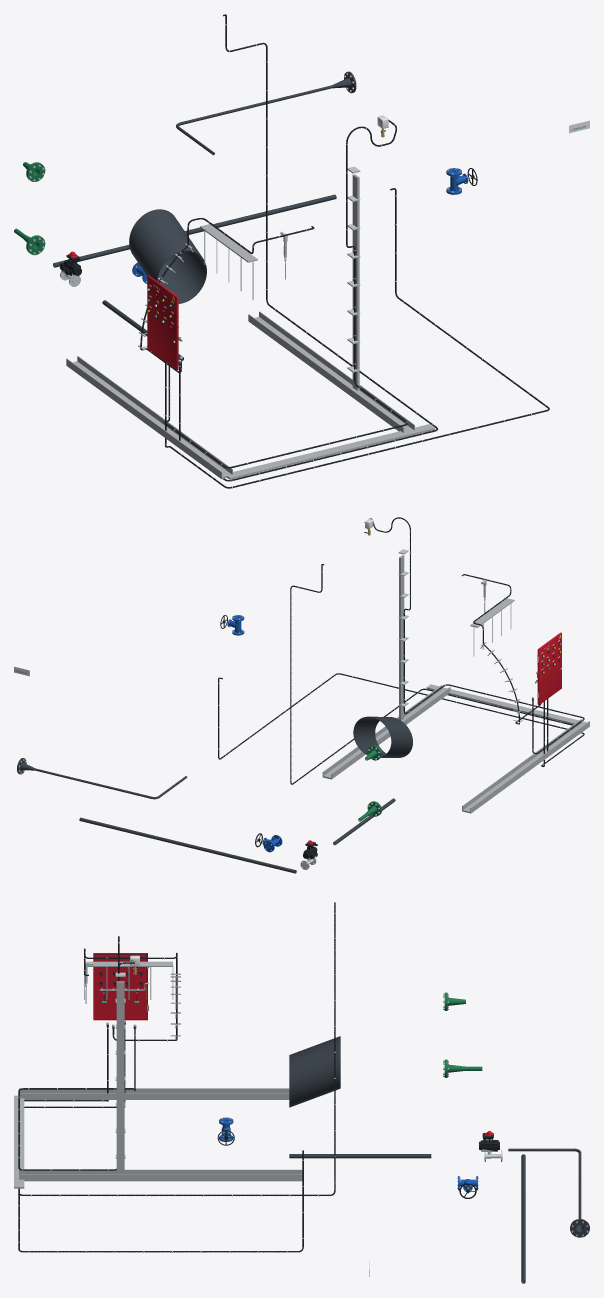
3 renders of one model, top to bottom at view 1: azimuth 30°, elevation 25°; view 2: azimuth 150°, elevation 25°; view 3: azimuth 270°, elevation 25°, orthographic. The views are drawn at different scales.
Visible parts, largest first — view 1: cables / zinc, 500 mm offset flue, cabinet_door / cabinet_door_5.npz, mod_eco_drive_cable / black, wiring_pump_2 / black, wiring_pressure_switch_3 / black, bottom_discharge / dark, tds_to_fv / dark, cables / steel, eco_inlet_adapter / green, wiring_low_level_2 / black; view 2: cables / zinc, 500 mm offset flue, cabinet_door / cabinet_door_5.npz, mod_eco_drive_cable / black, wiring_pump_2 / black, bottom_discharge / dark, wiring_pressure_switch_3 / black, tds_to_fv / dark, cables / steel; view 3: cables / zinc, cabinet_door / cabinet_door_5.npz, 500 mm offset flue, mod_eco_drive_cable / black, wiring_pump_2 / black, tds_to_fv / dark, wiring_pressure_switch_3 / black, cables / steel, bottom_piping / dark, bottom_discharge / dark, wiring_low_level_2 / black.
Boxes of the visible parts, left/top/right/bottom form: cables / zinc: left=66, top=174, right=434, bottom=479; 500 mm offset flue: left=129, top=209, right=206, bottom=303; cabinet_door / cabinet_door_5.npz: left=147, top=275, right=178, bottom=369; mod_eco_drive_cable / black: left=179, top=14, right=437, bottom=481; wiring_pump_2 / black: left=165, top=188, right=549, bottom=488; wiring_pressure_switch_3 / black: left=164, top=120, right=407, bottom=468; bottom_discharge / dark: left=53, top=194, right=336, bottom=267; tds_to_fv / dark: left=176, top=71, right=356, bottom=155; cables / steel: left=138, top=166, right=360, bottom=372; eco_inlet_adapter / green: left=14, top=162, right=45, bottom=255; wiring_low_level_2 / black: left=140, top=218, right=314, bottom=372; cables / zinc: left=322, top=555, right=589, bottom=813; 500 mm offset flue: left=353, top=716, right=412, bottom=757; cabinet_door / cabinet_door_5.npz: left=537, top=632, right=562, bottom=704; mod_eco_drive_cable / black: left=290, top=564, right=572, bottom=784; wiring_pump_2 / black: left=218, top=673, right=584, bottom=766; bottom_discharge / dark: left=79, top=817, right=296, bottom=873; wiring_pressure_switch_3 / black: left=364, top=517, right=584, bottom=754; tds_to_fv / dark: left=17, top=758, right=187, bottom=799; cables / steel: left=398, top=549, right=522, bottom=723; cables / zinc: left=14, top=961, right=302, bottom=1188; cabinet_door / cabinet_door_5.npz: left=93, top=953, right=148, bottom=1020; 500 mm offset flue: left=289, top=1036, right=340, bottom=1107; mod_eco_drive_cable / black: left=18, top=902, right=335, bottom=1195; wiring_pump_2 / black: left=18, top=1029, right=303, bottom=1252; tds_to_fv / dark: left=508, top=1148, right=589, bottom=1237; wiring_pressure_switch_3 / black: left=18, top=936, right=135, bottom=1170; cables / steel: left=84, top=965, right=180, bottom=1158; bottom_piping / dark: left=289, top=1154, right=431, bottom=1158; bottom_discharge / dark: left=521, top=1154, right=525, bottom=1283; wiring_low_level_2 / black: left=84, top=948, right=177, bottom=1040.
Size of the model in its own units: 5.84 by 3.14 by 5.62.
